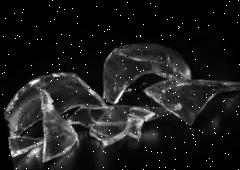glass: (0, 22, 240, 169)
